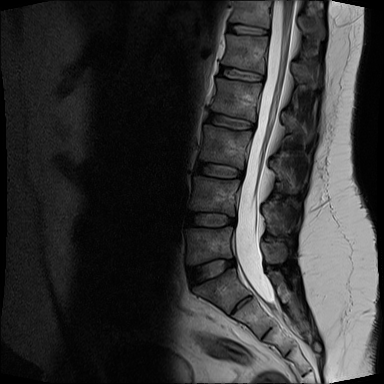Normal IVD: (182, 250, 237, 293), (200, 106, 258, 135), (188, 157, 245, 182), (213, 61, 267, 86), (181, 208, 237, 229), (220, 20, 271, 38)
